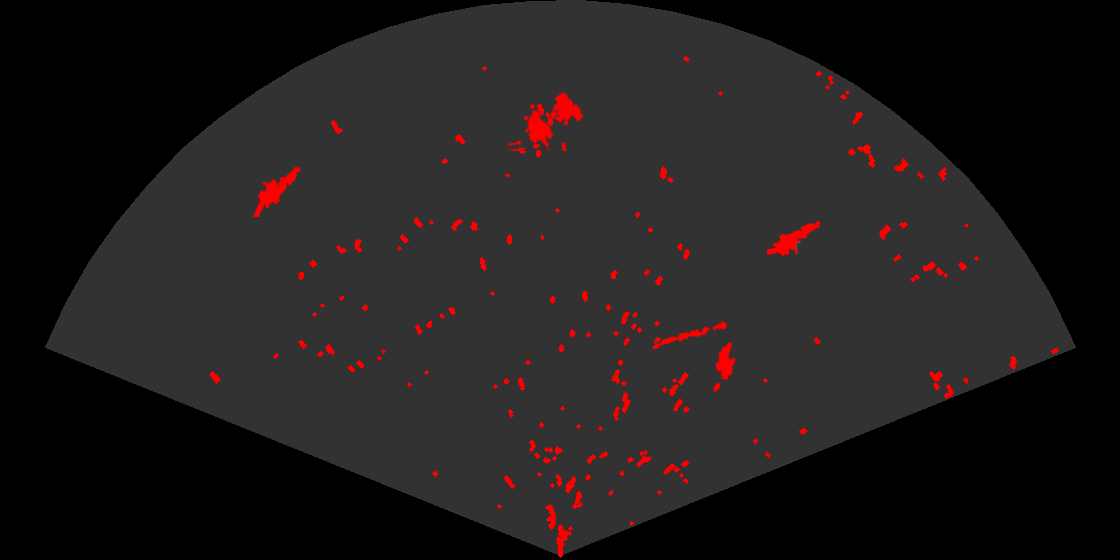AUV: (713, 340, 737, 382)
cage: (508, 91, 585, 151)
chain: (650, 319, 730, 351)
frogman: (251, 165, 302, 217), (767, 219, 823, 258)
